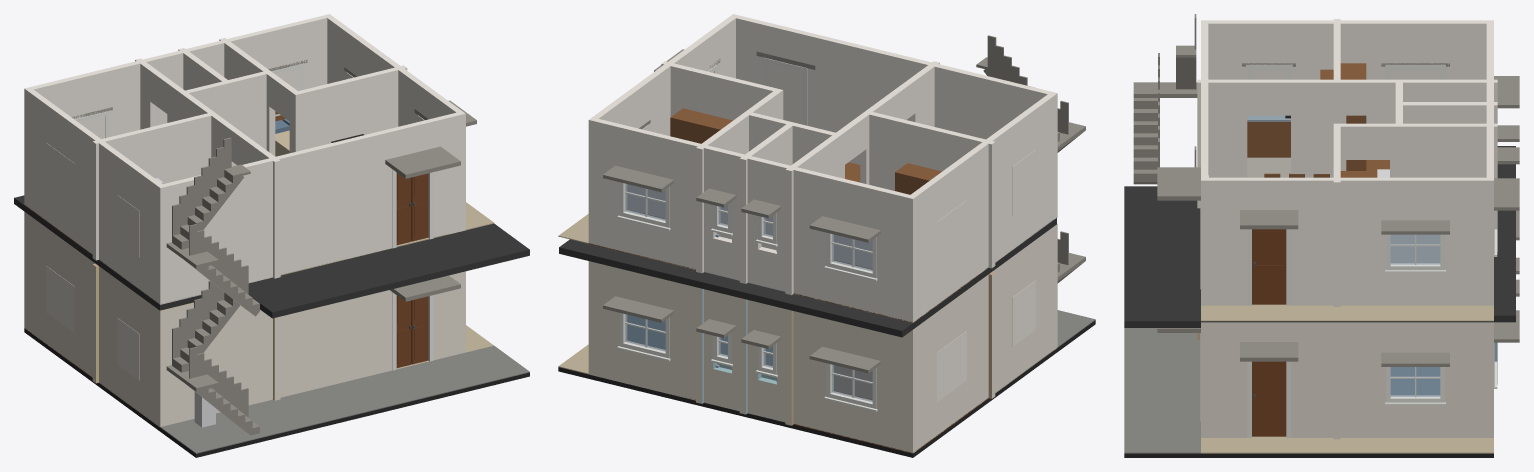
File: interior_villa.glb
3 views of the same model, side by side, from view 1: azimuth 30°, elevation 25°; view 2: azimuth 150°, elevation 25°; view 3: azimuth 270°, elevation 25° (orthographic). The views are drawn at different scales.
Visible parts, largest first — view 1: Walls_B, Walls, Roof, Footprint_portico, Staircase_Steps_2, Staircase_Steps, Wall_Patch, Floor_Slab, Doors, Doors_B, Sunshades_B, Footprint_staircase (+4 smaller); view 2: Walls_B, Walls, Roof, Wall_Patch, Windows_B, Sunshades_B, Windows, Sunshades, FX_wood_B, Floor_Slab, Glazing, Glazing_B (+3 smaller); view 3: Walls_B, Walls, Roof, Footprint_portico, Sunshades_B, Footprint_balcony_B, Footprint_balcony, Staircase_Steps_2, Sunshades, FX_wood_B, Windows_B, Doors_B (+7 smaller).
Part boxes in pixels (left/top/right/bottom): Walls_B: left=24, top=14, right=465, bottom=304; Walls: left=24, top=211, right=465, bottom=427; Roof: left=14, top=195, right=529, bottom=318; Footprint_portico: left=216, top=345, right=529, bottom=440; Staircase_Steps_2: left=166, top=137, right=259, bottom=316; Staircase_Steps: left=166, top=281, right=259, bottom=435; Wall_Patch: left=46, top=143, right=139, bottom=380; Floor_Slab: left=24, top=328, right=529, bottom=457; Doors: left=396, top=295, right=428, bottom=367; Doors_B: left=396, top=172, right=428, bottom=245; Sunshades_B: left=71, top=60, right=476, bottom=178; Footprint_staircase: left=160, top=416, right=248, bottom=453; Walls_B: left=588, top=14, right=1057, bottom=322; Walls: left=588, top=223, right=1057, bottom=453; Roof: left=559, top=218, right=1056, bottom=337; Wall_Patch: left=937, top=150, right=1035, bottom=401; Windows_B: left=617, top=57, right=877, bottom=281; Sunshades_B: left=603, top=49, right=880, bottom=242; Windows: left=617, top=313, right=877, bottom=411; Sunshades: left=603, top=296, right=880, bottom=373; FX_wood_B: left=640, top=108, right=941, bottom=269; Floor_Slab: left=558, top=320, right=1095, bottom=457; Glazing: left=625, top=314, right=872, bottom=401; Glazing_B: left=625, top=184, right=872, bottom=271; Walls_B: left=1197, top=19, right=1497, bottom=306; Walls: left=1197, top=322, right=1497, bottom=439; Roof: left=1124, top=146, right=1515, bottom=327; Footprint_portico: left=1124, top=328, right=1200, bottom=453; Sunshades_B: left=1157, top=63, right=1519, bottom=234; Footprint_balcony_B: left=1201, top=305, right=1493, bottom=321; Footprint_balcony: left=1201, top=438, right=1493, bottom=453; Staircase_Steps_2: left=1133, top=14, right=1197, bottom=184; Sunshades: left=1157, top=210, right=1519, bottom=366; FX_wood_B: left=1247, top=63, right=1366, bottom=177; Windows_B: left=1200, top=66, right=1497, bottom=305; Doors_B: left=1252, top=229, right=1286, bottom=304.
Bounding box in the file's own units: 8.76 × 6.94 × 8.25.
